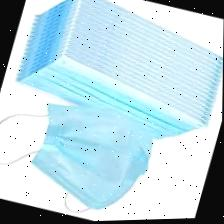mask: (2, 0, 224, 162), (8, 93, 172, 224)
